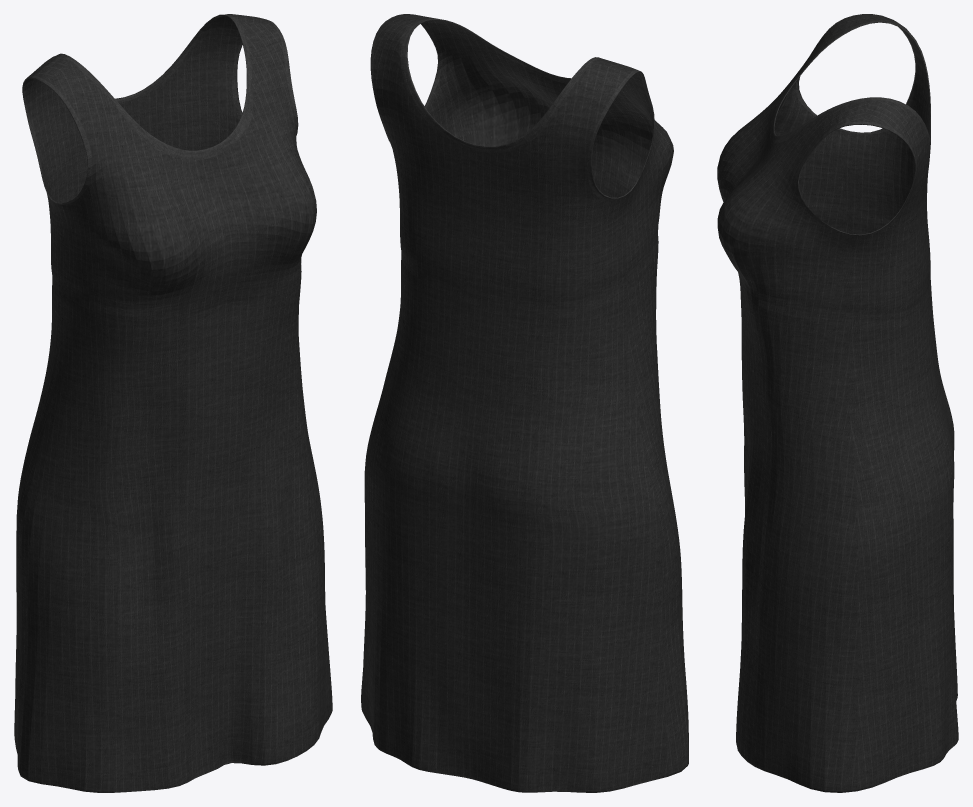
The model's file is garment.glb.
3 views of the same model, side by side, from view 1: azimuth 30°, elevation 25°; view 2: azimuth 150°, elevation 25°; view 3: azimuth 270°, elevation 25° (orthographic). The views are drawn at different scales.
Visible parts, largest first — view 1: garment; view 2: garment; view 3: garment.
Boxes of the visible parts, box(x1,y1,x2,y2) form: garment: box(14, 14, 332, 792); garment: box(361, 14, 688, 792); garment: box(717, 14, 958, 792).
Bounding box in the file's own units: 4.05 × 8.7 × 2.87.
1 material, 1 textured.
